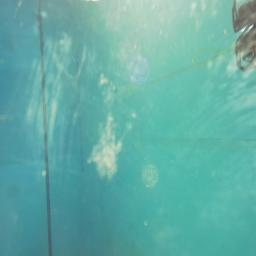Side: (234, 18, 256, 71)
